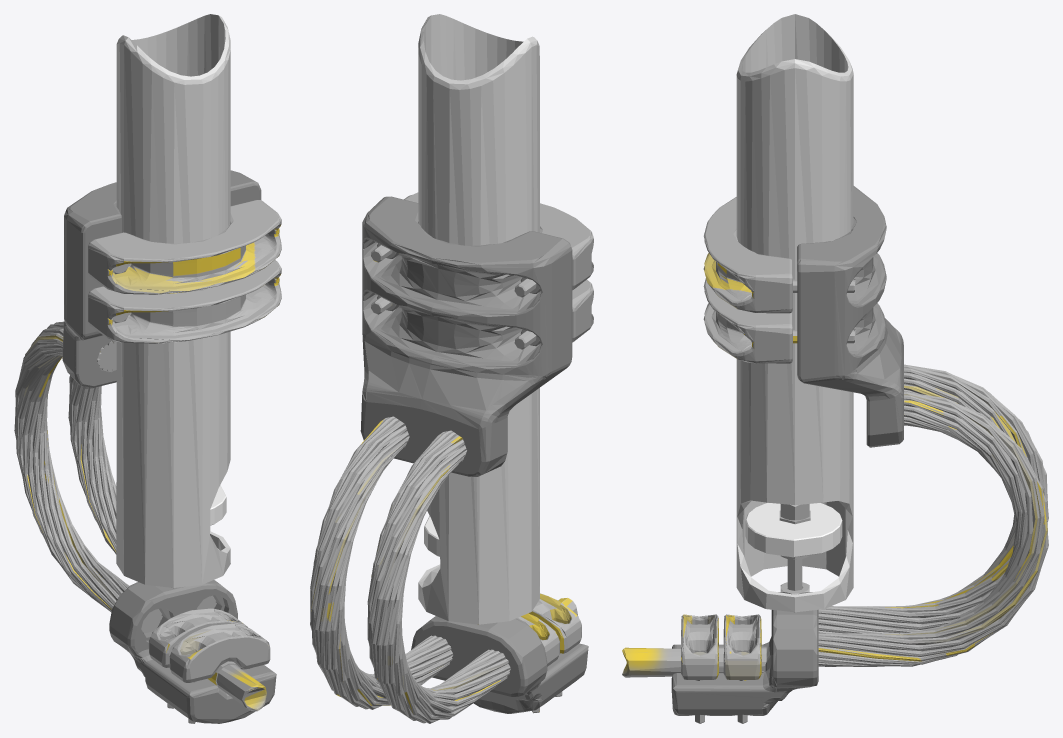
File: flexible_90_tubo_pinBNO.gltf
3 views of the same model, side by side, from view 1: azimuth 30°, elevation 25°; view 2: azimuth 150°, elevation 25°; view 3: azimuth 270°, elevation 25° (orthographic). The views are drawn at different scales.
Parts seen in each view (by area): view 1: Gt7Sj3Sa.001, Gt7Sj3Sa, Gt7Sj3Sa.003, Gt7Sj3Sa.004, Gt7Sj3Sa.005, Gt7Sj3Sa.002; view 2: Gt7Sj3Sa.001, Gt7Sj3Sa.004, Gt7Sj3Sa, Gt7Sj3Sa.003; view 3: Gt7Sj3Sa.001, Gt7Sj3Sa, Gt7Sj3Sa.004, Gt7Sj3Sa.003, Gt7Sj3Sa.002, Gt7Sj3Sa.005.
Part boxes in pixels (x1,y1,x2,y2): Gt7Sj3Sa.001: (116,14,230,587); Gt7Sj3Sa: (14,200,281,723); Gt7Sj3Sa.003: (109,580,276,723); Gt7Sj3Sa.004: (62,170,261,387); Gt7Sj3Sa.005: (216,664,266,711); Gt7Sj3Sa.002: (210,485,226,525); Gt7Sj3Sa.001: (418,14,539,624); Gt7Sj3Sa.004: (360,196,572,476); Gt7Sj3Sa: (310,192,593,723); Gt7Sj3Sa.003: (411,616,588,713); Gt7Sj3Sa.001: (736,14,853,612); Gt7Sj3Sa: (681,197,1048,723); Gt7Sj3Sa.004: (797,186,903,447); Gt7Sj3Sa.003: (671,592,818,715); Gt7Sj3Sa.002: (745,503,842,557); Gt7Sj3Sa.005: (622,647,765,677).
Size of the model in its own units: 0.8997 by 3.14 by 1.81.
4 materials, 4 textured.
